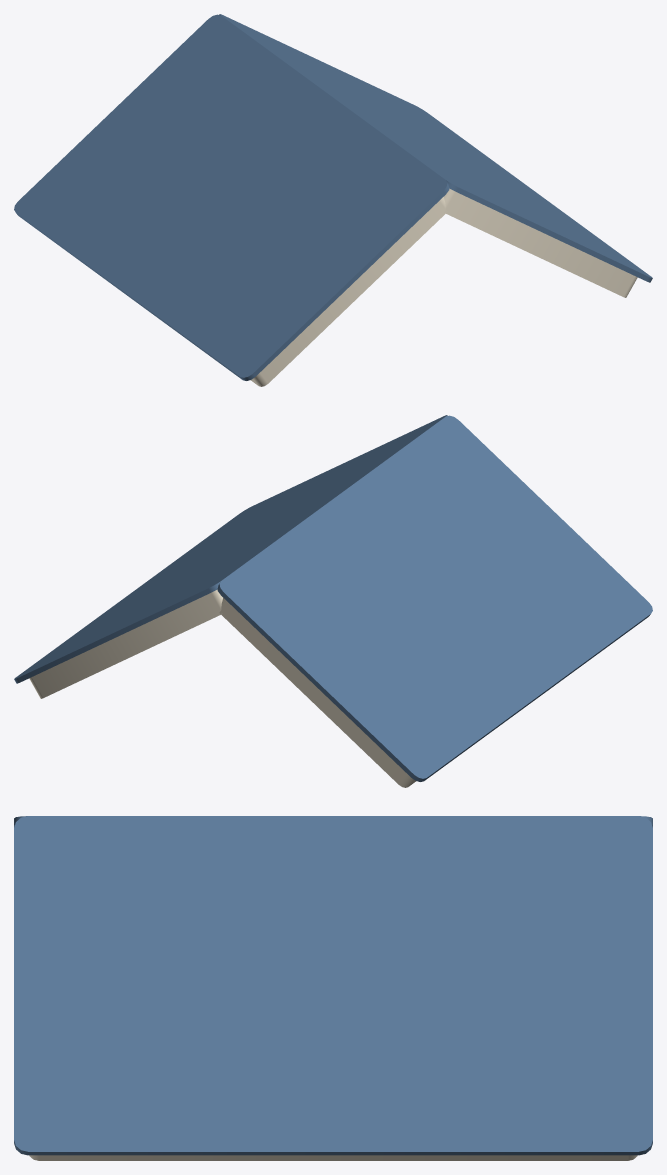
Rendered from livre_poche.glb.
3 renders of one model, top to bottom at view 1: azimuth 30°, elevation 25°; view 2: azimuth 150°, elevation 25°; view 3: azimuth 270°, elevation 25°, orthographic. The views are drawn at different scales.
Parts seen in each view (by area): view 1: LIV_Ardoise_Moyen, LIV_Creme; view 2: LIV_Ardoise_Moyen, LIV_Creme; view 3: LIV_Ardoise_Moyen, LIV_Creme.
Part boxes in pixels (box(x1,y1,x2,y2)): LIV_Ardoise_Moyen: box(14, 14, 652, 380); LIV_Creme: box(250, 188, 637, 386); LIV_Ardoise_Moyen: box(14, 415, 652, 781); LIV_Creme: box(29, 589, 416, 787); LIV_Ardoise_Moyen: box(14, 816, 652, 1155); LIV_Creme: box(29, 1155, 637, 1160).
Bounding box in the file's own units: 0.1817 × 0.0695 × 0.18.
